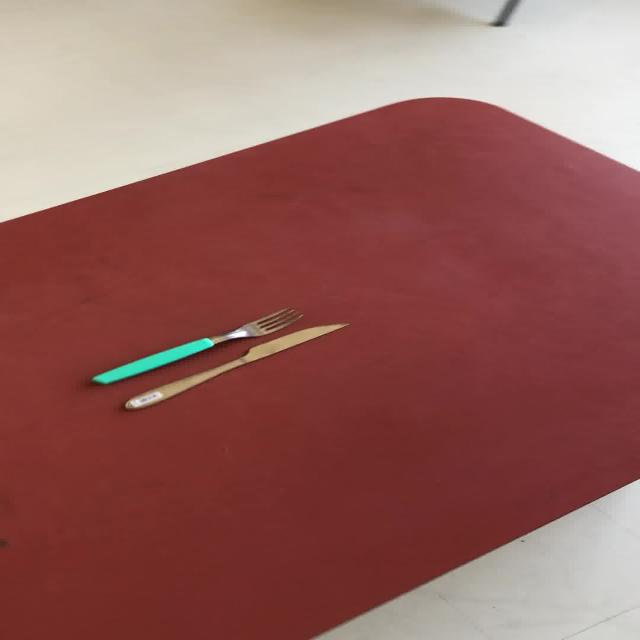fork: (123, 321, 350, 411), (88, 305, 303, 386)
knife fork: (122, 321, 350, 411)
